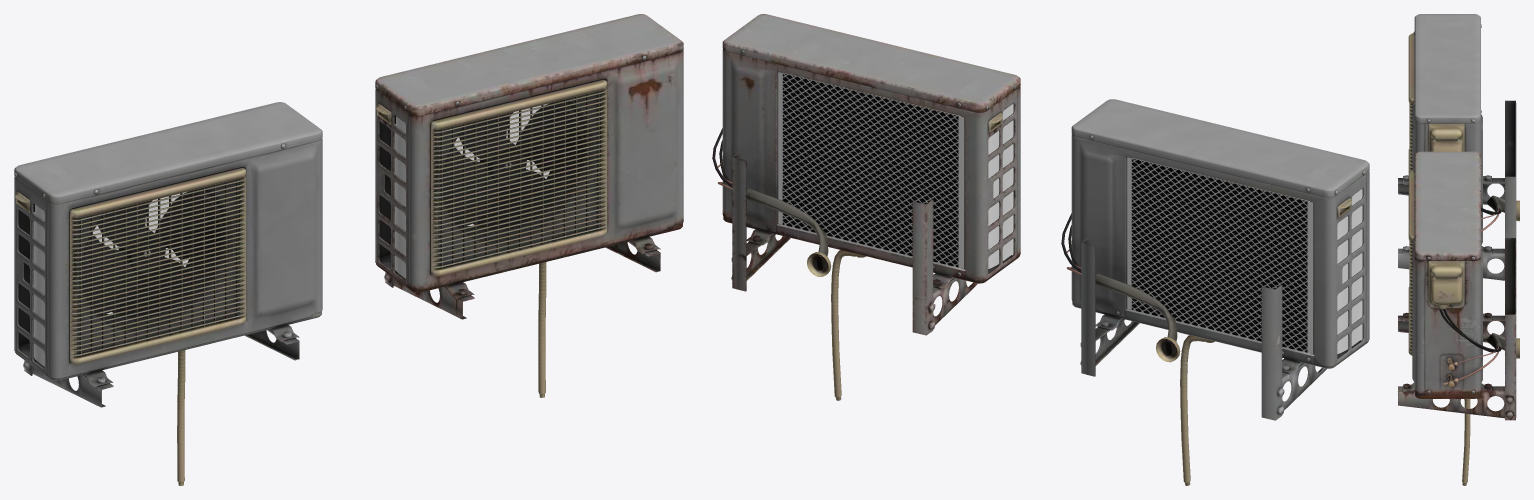
The model's file is exterior_aircon_unit.glb.
The picture shows the model from 3 angles, left to right: view 1: azimuth 30°, elevation 25°; view 2: azimuth 150°, elevation 25°; view 3: azimuth 270°, elevation 25°; orthographic projection. The views are drawn at different scales.
Parts seen in each view (by area): view 1: exterior_aircon_unit_rusted, exterior_aircon_unit; view 2: exterior_aircon_unit, exterior_aircon_unit_rusted; view 3: exterior_aircon_unit_rusted, exterior_aircon_unit.
Part boxes in pixels (x1,y1,x2,y2): exterior_aircon_unit_rusted: (375, 14, 683, 397); exterior_aircon_unit: (14, 102, 322, 485); exterior_aircon_unit: (1061, 99, 1369, 485); exterior_aircon_unit_rusted: (712, 14, 1020, 400); exterior_aircon_unit_rusted: (1398, 151, 1519, 485); exterior_aircon_unit: (1398, 14, 1519, 280).
Bounding box in the file's own units: 1.8 × 0.9279 × 0.3742.
Materials: 4 (4 with a texture image).
